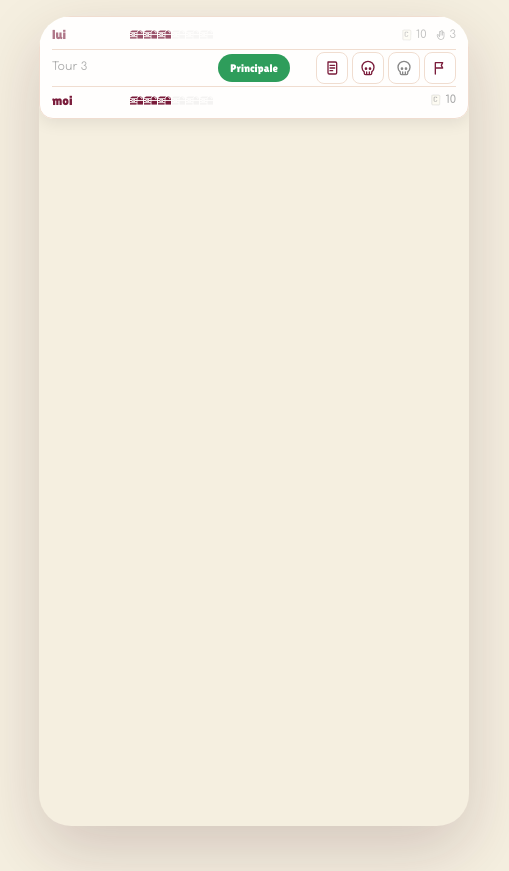
it: FightHUD › à mon tour, un appui sur la pastille ouvre le menu des phases
The image size is (509, 871).
Click the button "Principale" at (254, 68), box [218,54,290,82]
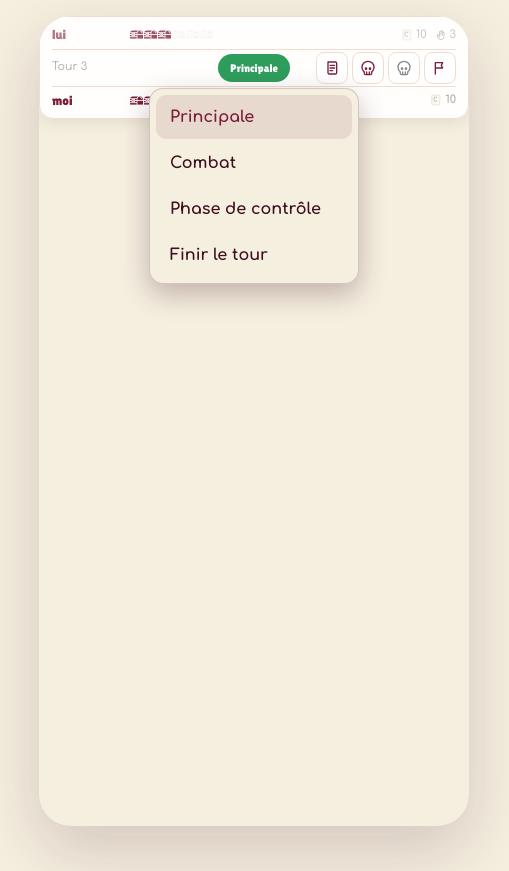
Now the menu is shown, box [149,88,359,284]
Now the menu item "Combat" is shown, box [156,140,352,184]
